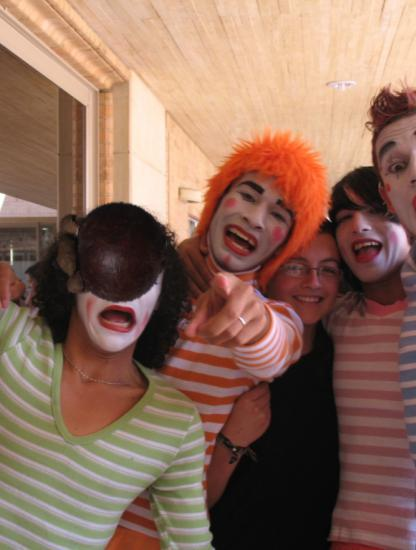Mangostan: (53, 195, 167, 309)
